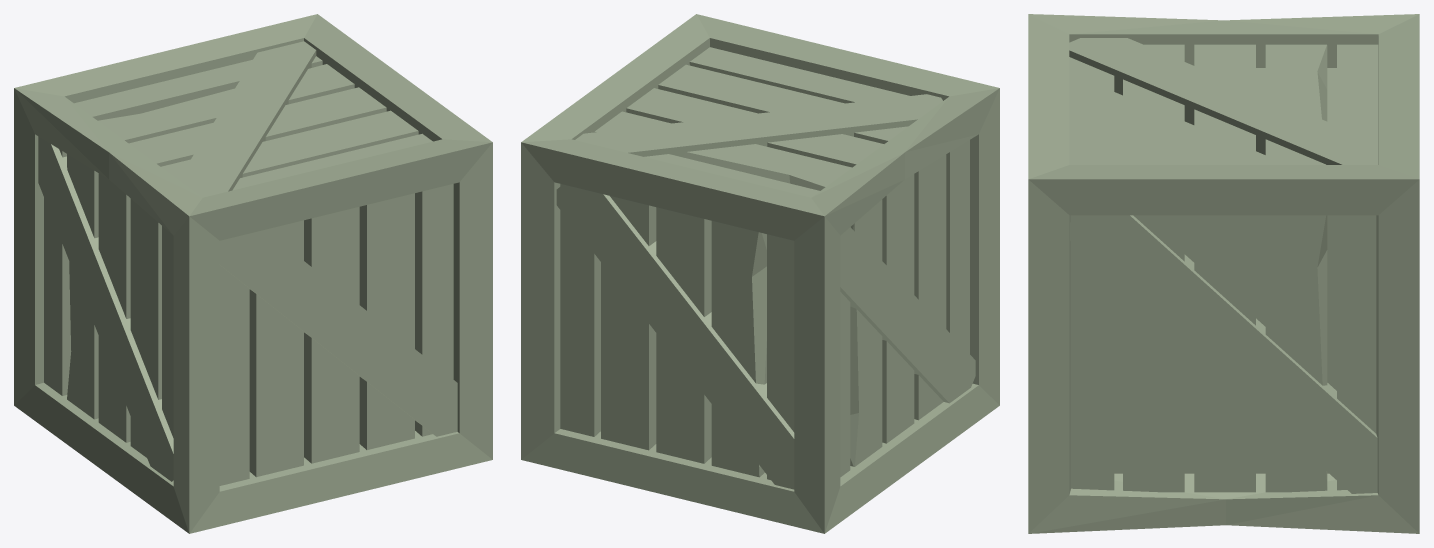
Rendered from crate-BDdvN_i1.glb.
3 views of the same model, side by side, from view 1: azimuth 30°, elevation 25°; view 2: azimuth 150°, elevation 25°; view 3: azimuth 270°, elevation 25° (orthographic). The views are drawn at different scales.
Parts seen in each view (by area): view 1: Crate_Cube.259; view 2: Crate_Cube.259; view 3: Crate_Cube.259.
Boxes of the visible parts, box(x1,y1,x2,y2) form: Crate_Cube.259: box(14, 14, 492, 533); Crate_Cube.259: box(521, 14, 999, 533); Crate_Cube.259: box(1028, 14, 1419, 533).
Size of the model in its own units: 0.1602 by 0.1602 by 0.1602.
